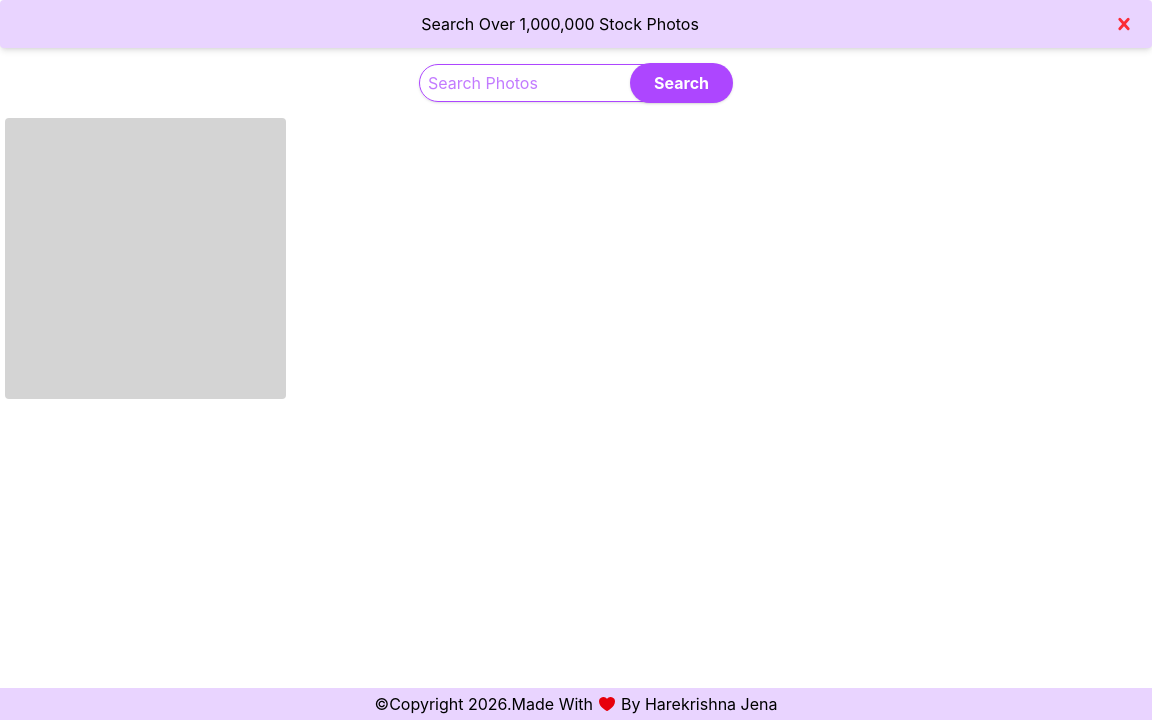
Test case: photo search › shows a search error and restores the search button after failure
In the search field: (572, 83) left=419, top=64, right=726, bottom=102, type "birds"
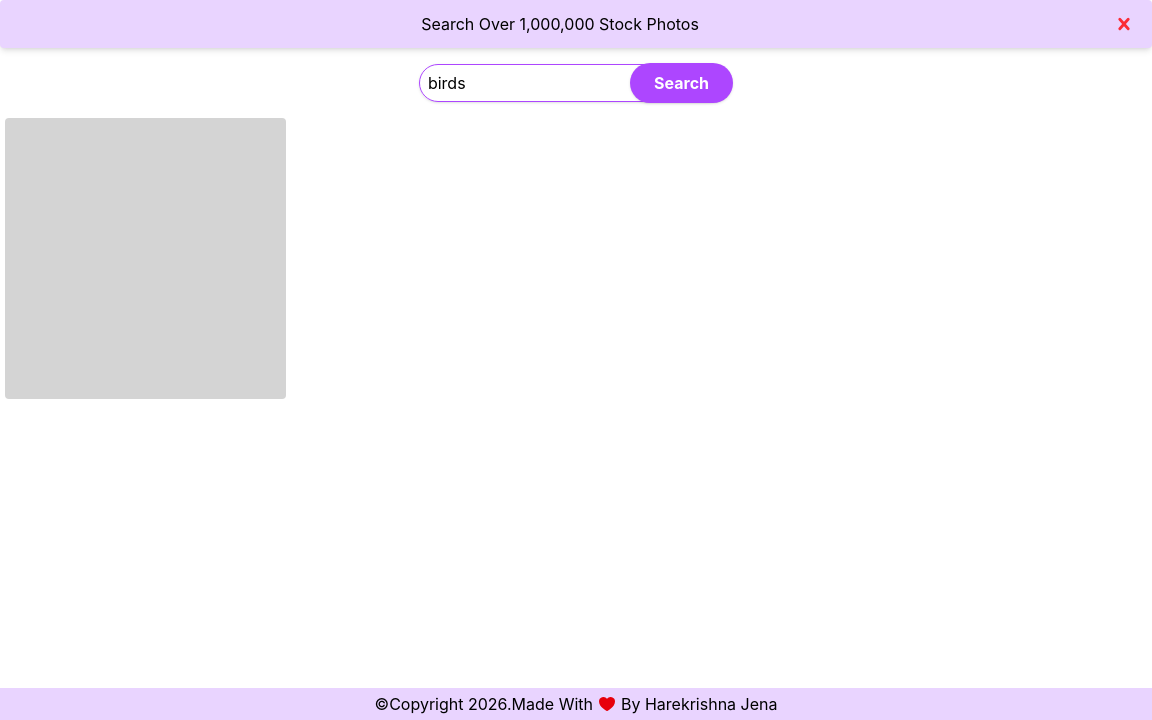
Click the button "Search": (682, 83) left=630, top=63, right=733, bottom=103
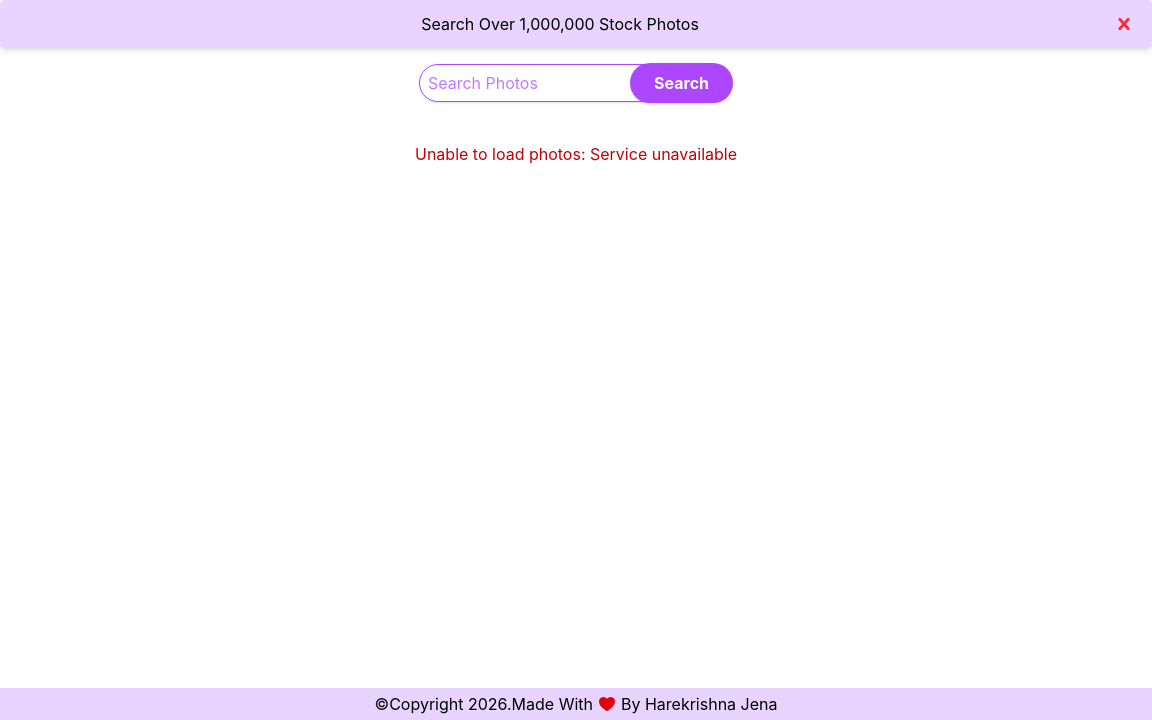
Now the text "Unable to load photos: Service unavailable" is shown, box left=415, top=144, right=737, bottom=164
